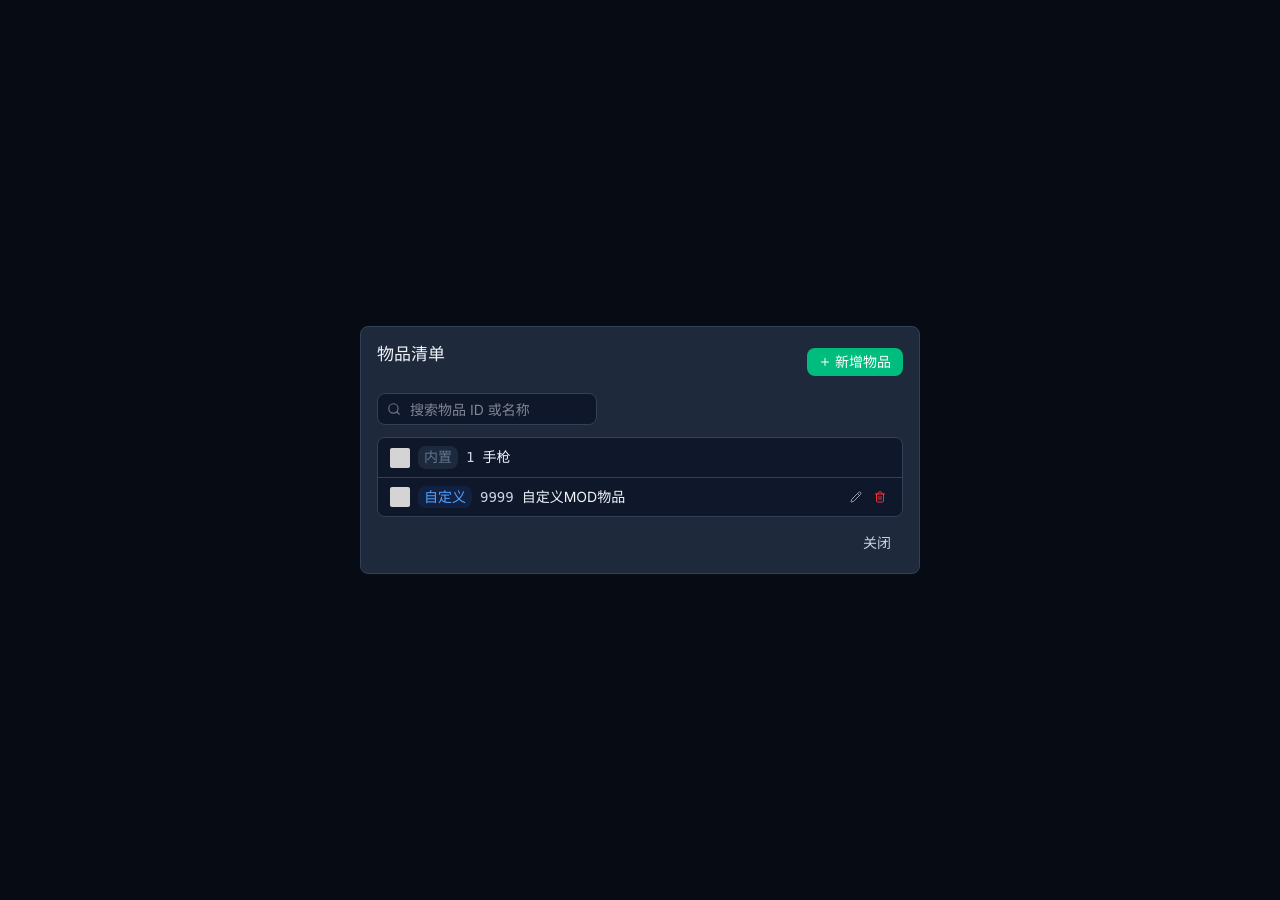
ItemListDialog — 物品清单管理 › 新增：填已存在的自定义 ID → 字段报错，不调 createItem
The image size is (1280, 900).
Click the button "新增物品" at (855, 362), box [807, 348, 903, 376]
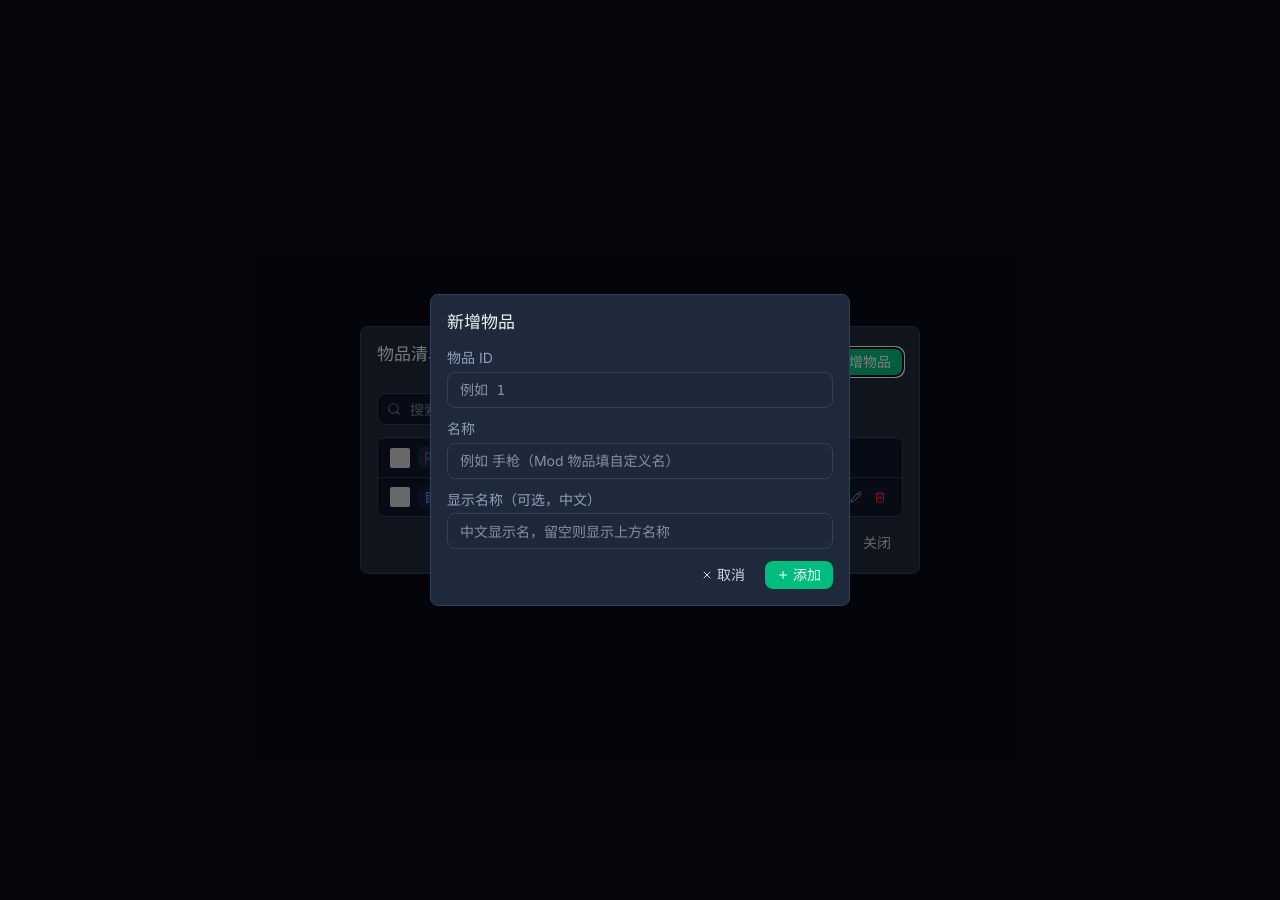
Type "9999" into the field with placeholder "例如 1" at (640, 390), box [447, 372, 833, 408]
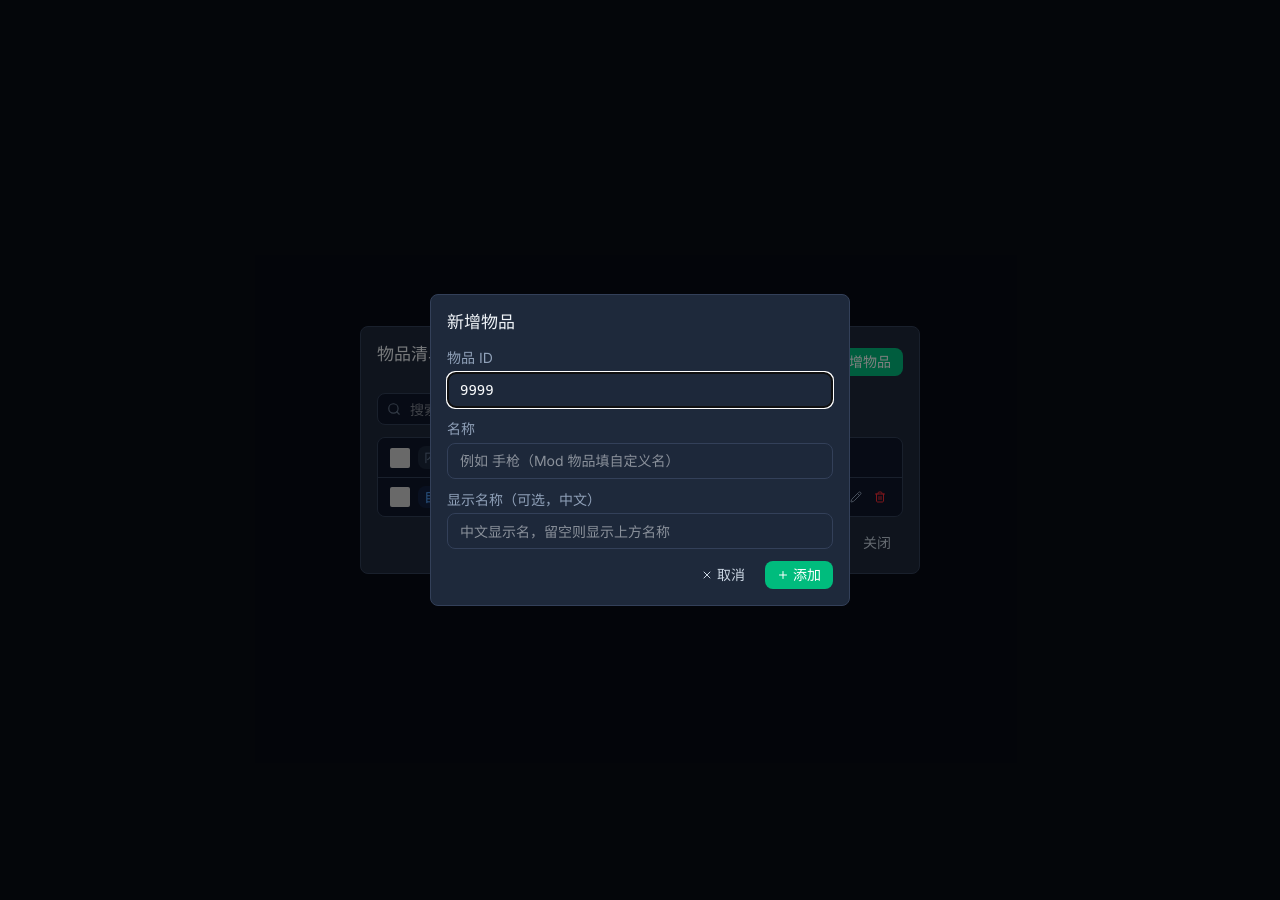
Type "重复自定义物品" into the field with placeholder "例如 手枪（Mod 物品填自定义名）" at (640, 461), box [447, 443, 833, 479]
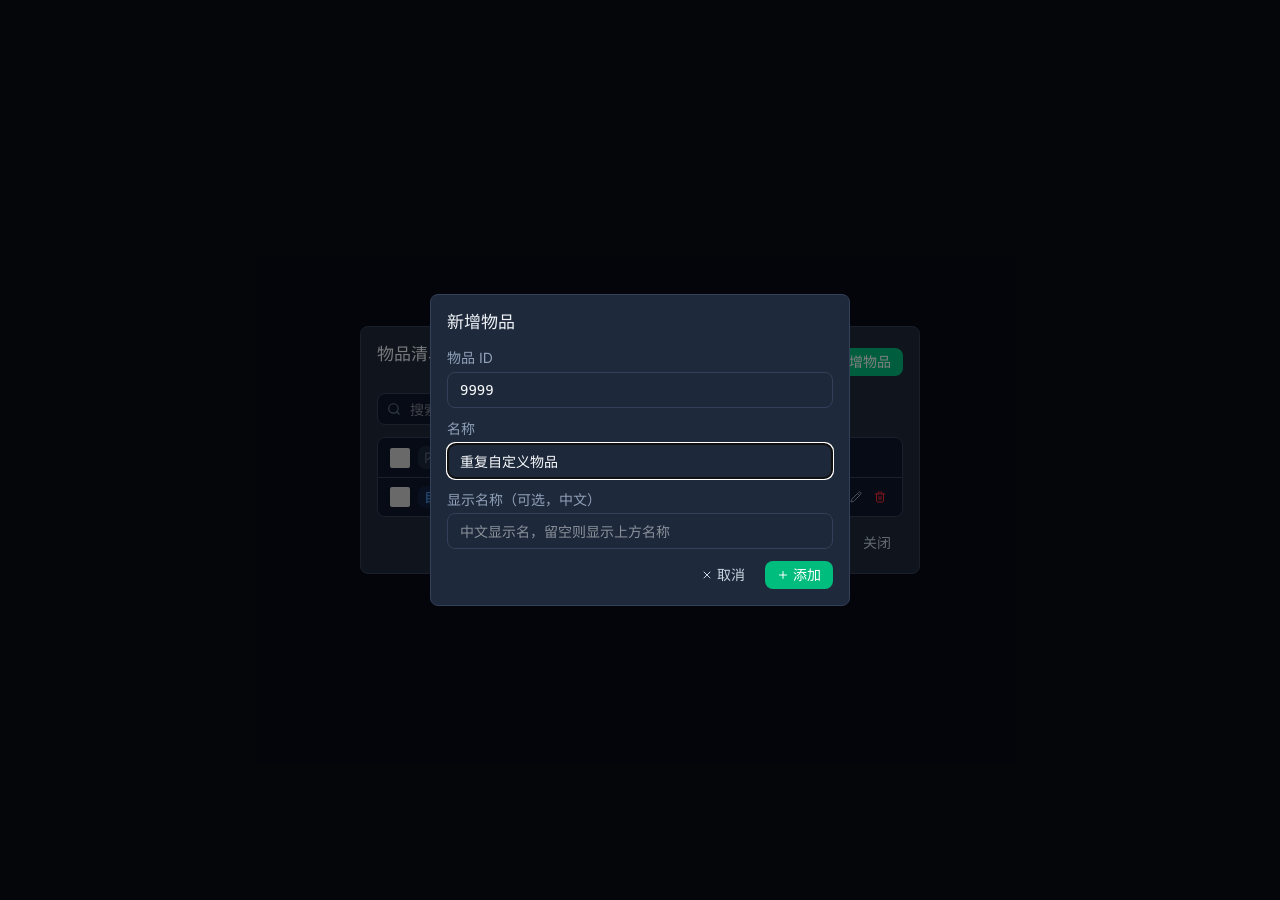
Click the button "添加" at (799, 575), box [765, 561, 833, 589]
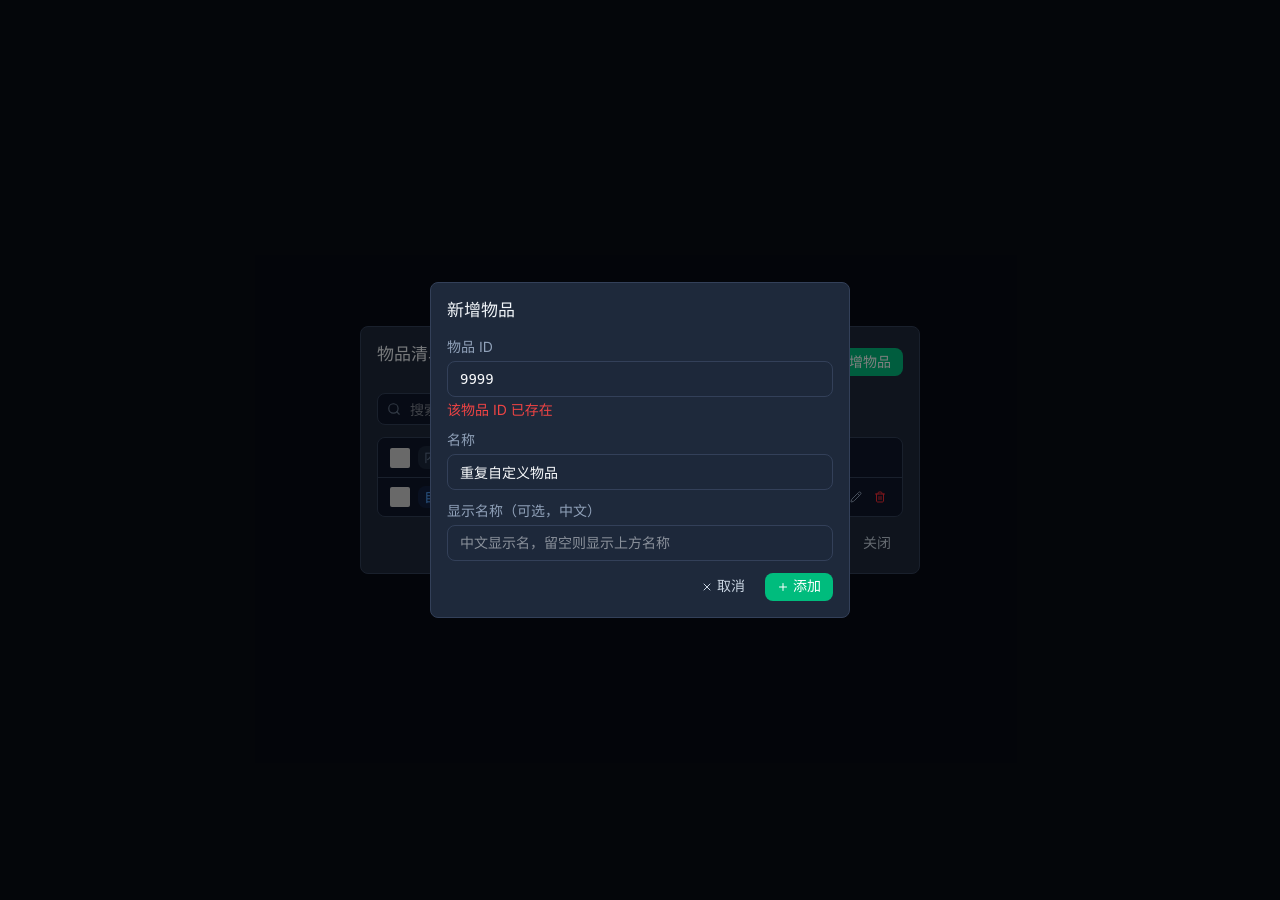
Expected: the text "该物品 ID 已存在" is shown, [447, 401, 553, 418]
